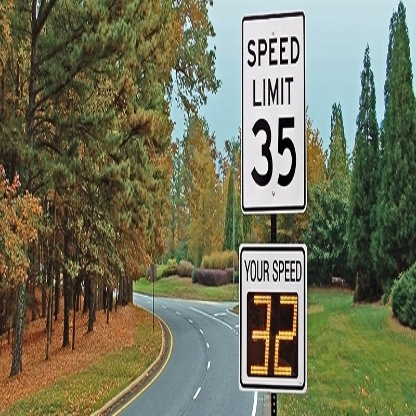limit1: (242, 16, 307, 213)
